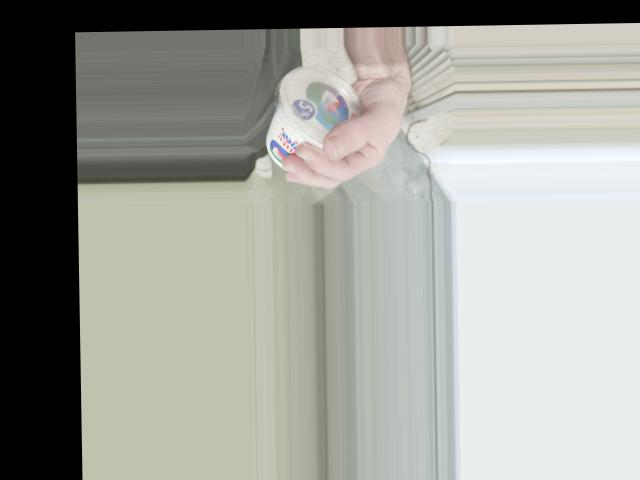cotage: (265, 61, 361, 175)
